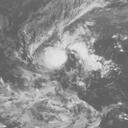cyclone: (11, 3, 107, 89)
